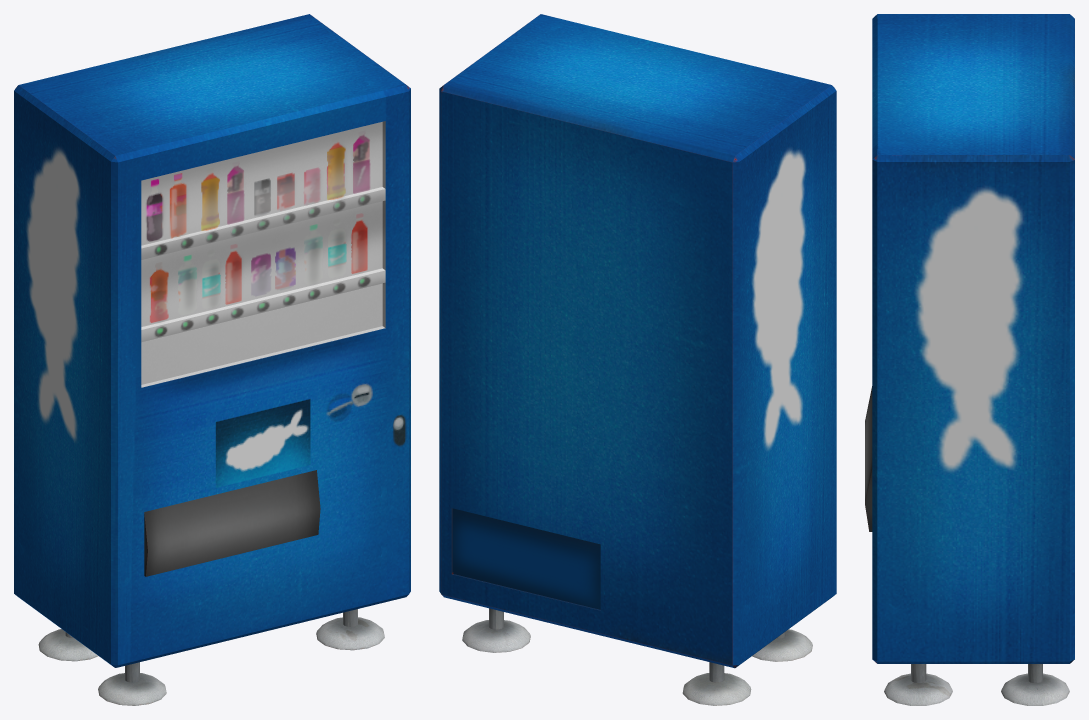
File: Vending_machine_blue.fbx
3 views of the same model, side by side, from view 1: azimuth 30°, elevation 25°; view 2: azimuth 150°, elevation 25°; view 3: azimuth 270°, elevation 25° (orthographic).
Visible parts, largest first — view 1: pCube10, pCylinder13; view 2: pCube10, pCylinder13; view 3: pCube10, pCylinder13.
Part boxes in pixels (box(x1,y1,x2,y2)): pCube10: box(14, 14, 410, 667); pCylinder13: box(38, 609, 384, 705); pCube10: box(439, 14, 836, 668); pCylinder13: box(462, 608, 812, 705); pCube10: box(865, 14, 1074, 663); pCylinder13: box(884, 664, 1069, 705).
Bounding box in the file's own units: 19.38 × 34.39 × 11.82.
Materials: 1 (1 with a texture image).
